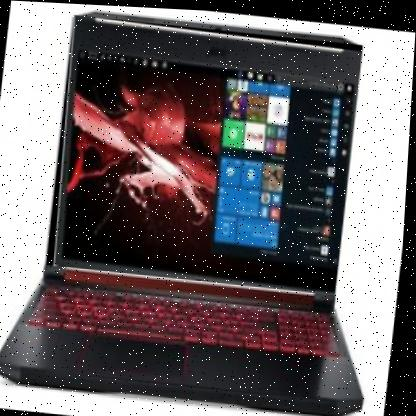Normal: (48, 13, 365, 292)
